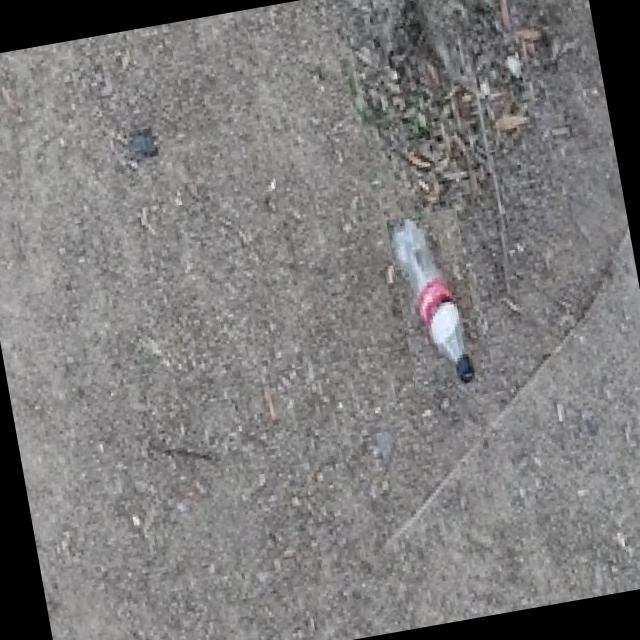good: (384, 207, 484, 392)
